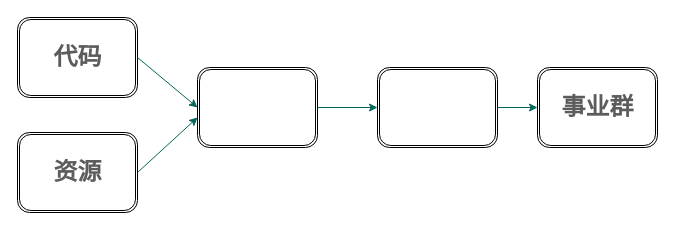
The diagram is 675 pixels wide and 230 high, and some of its shapes have lost their labels. Here are the shapes that lost their labels. From the top down, the box of each, then its label:
(196, 66, 318, 148): 组件
(376, 66, 498, 148): 业务线
